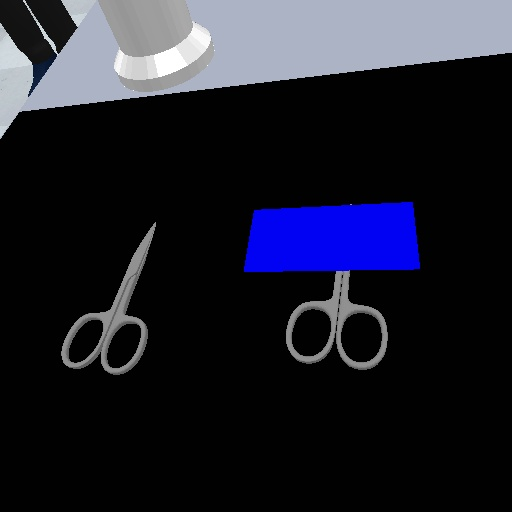tijera: (51, 218, 162, 381), (281, 268, 391, 376)
